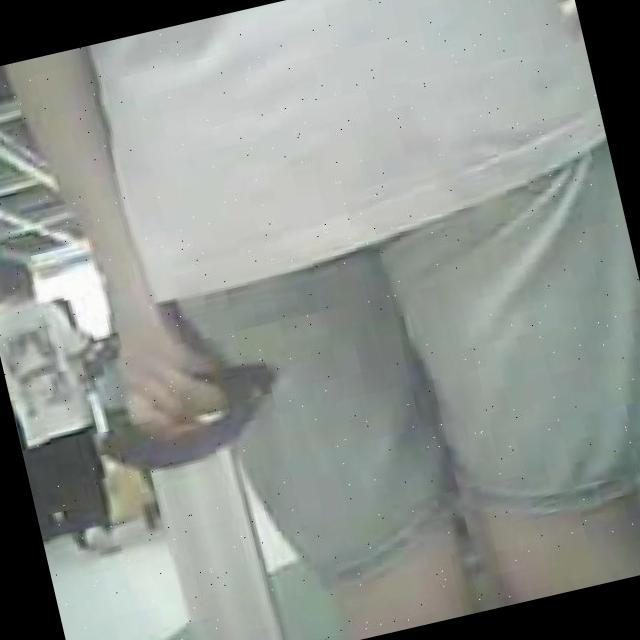person: (2, 0, 640, 640), (0, 230, 148, 567)
